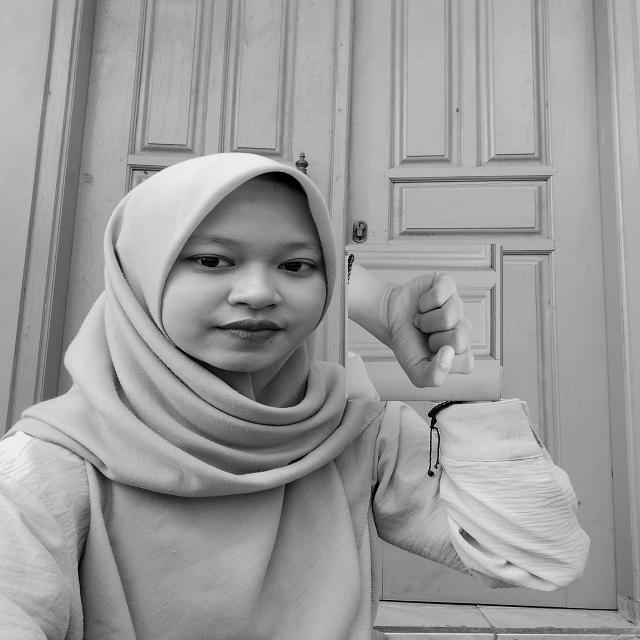baik: (346, 245, 502, 400)
